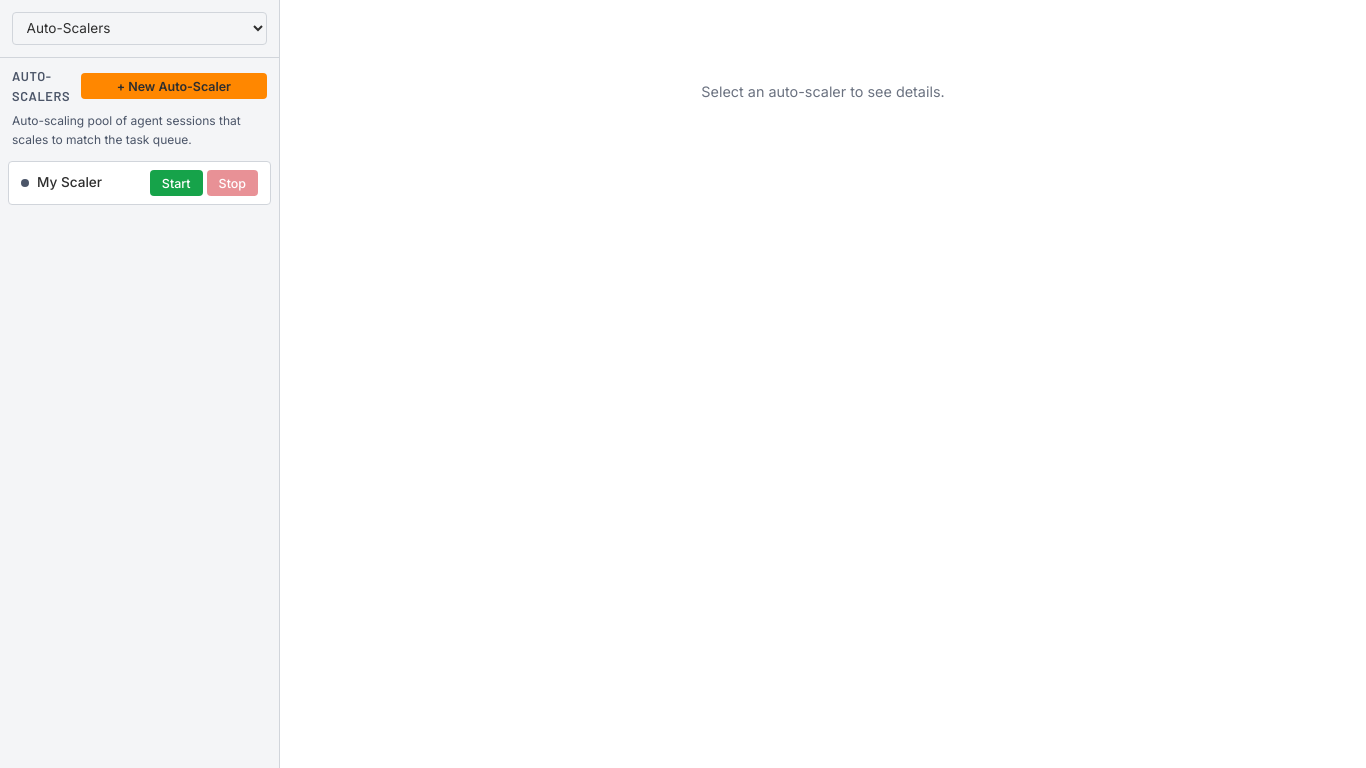
Test case: AutoScaler selection and detail view › selecting an autoscaler card renders detail in the right panel
Click the button "My Scaler Start Stop" at (70, 182), box [8, 161, 271, 205]
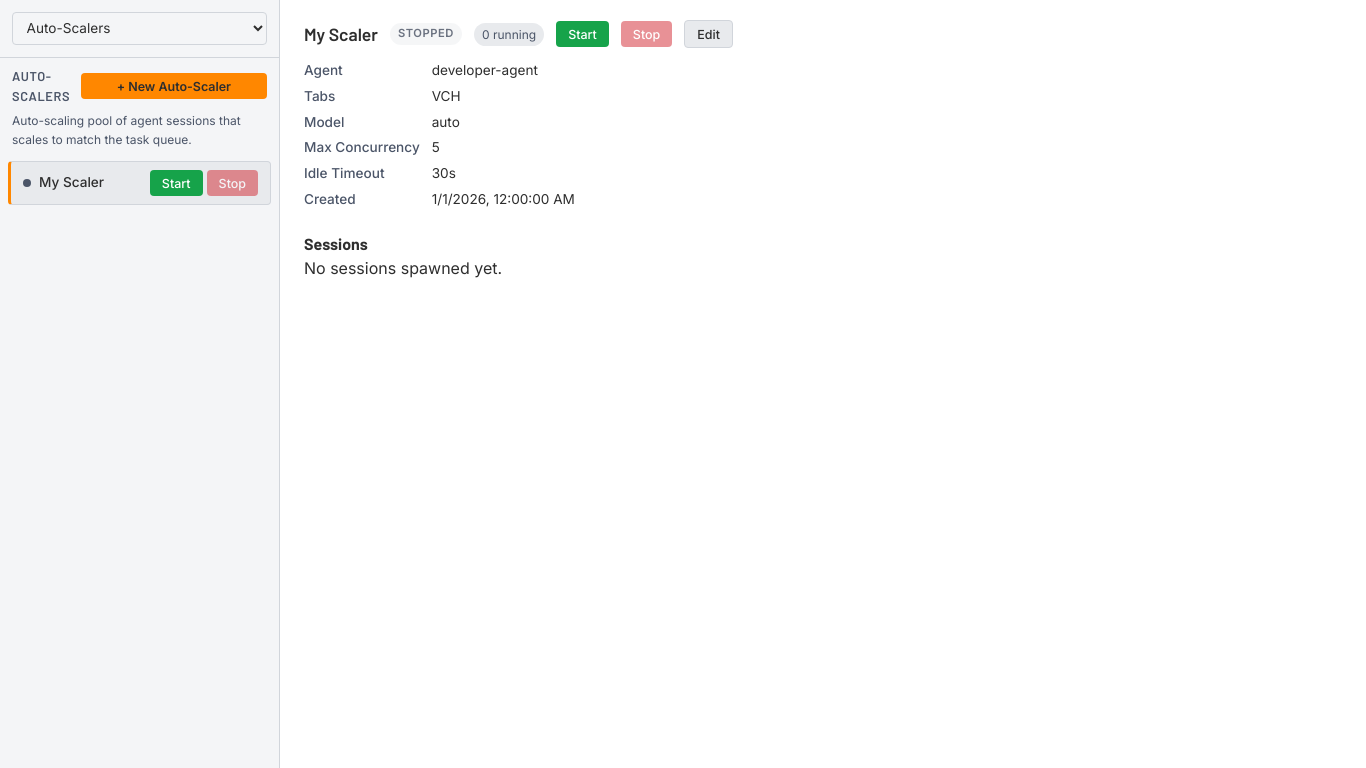
Result: the element with test id "autoscaler-detail-panel" is shown at [304, 20, 733, 278]
Result: the element with test id "autoscaler-detail-panel" shows "My Scaler" at [304, 23, 378, 45]
